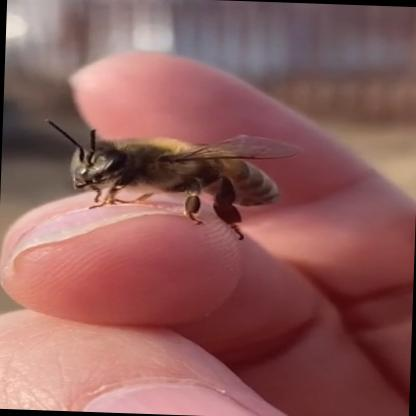bee: (1, 96, 336, 258)
